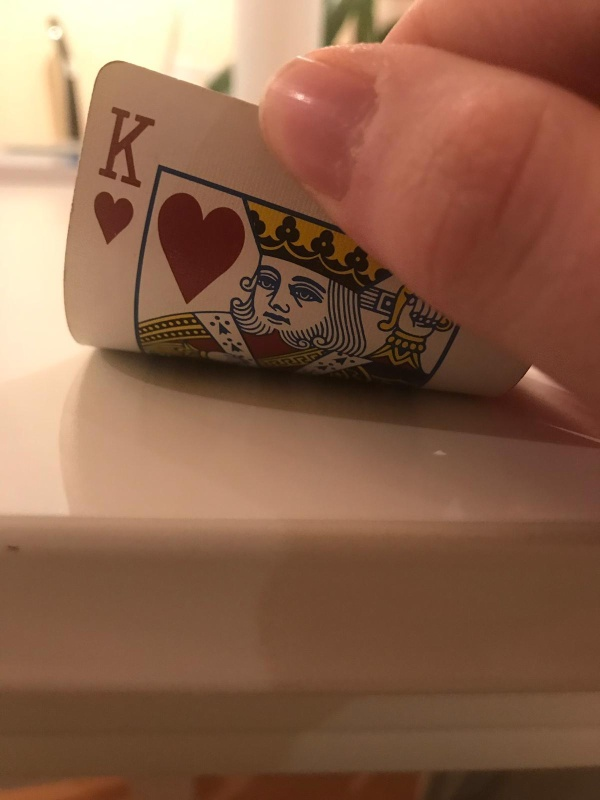Hk: (93, 93, 156, 243)
